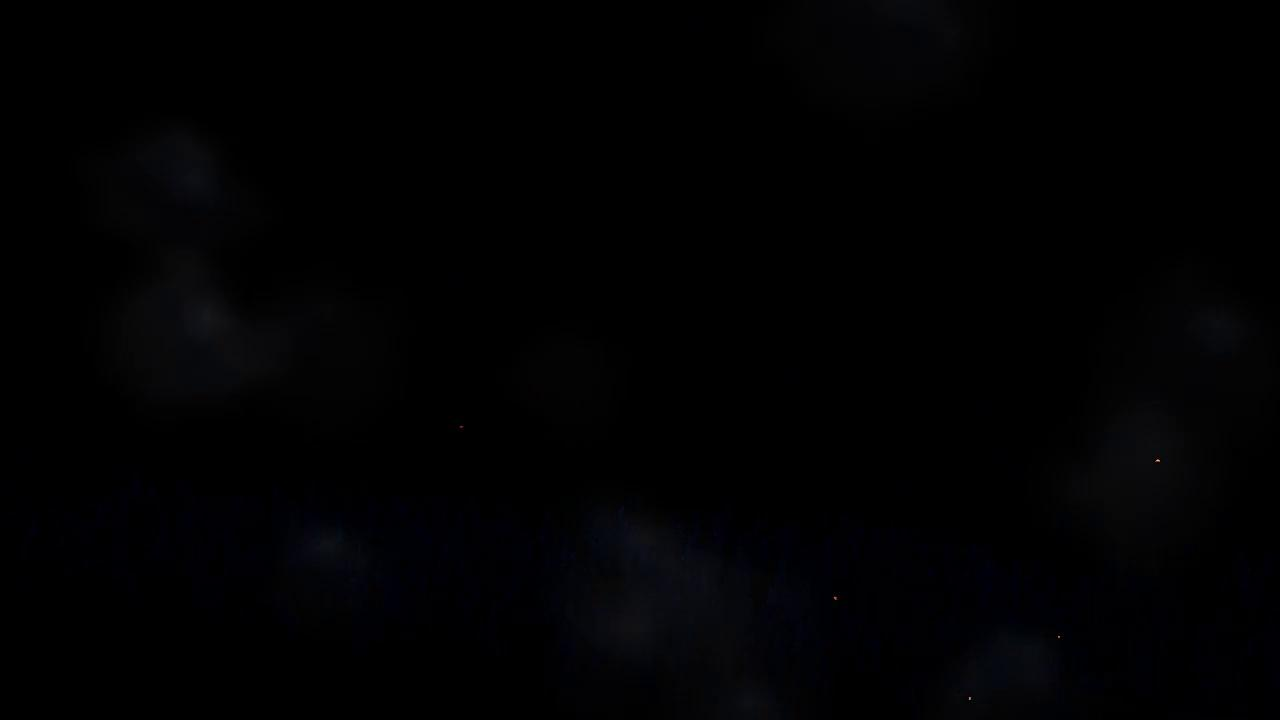smoke: (96, 127, 289, 420)
